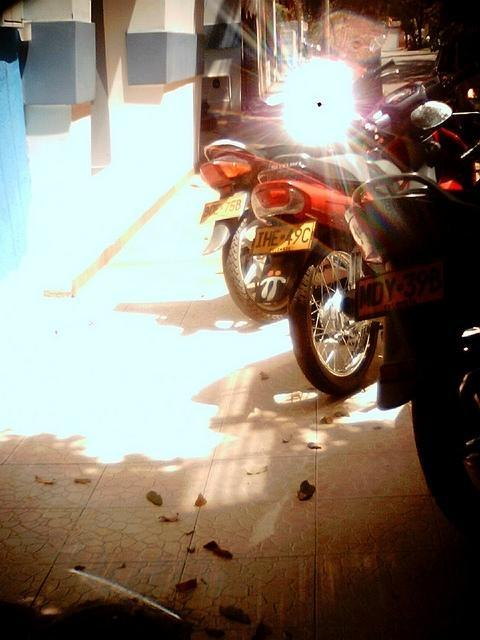motorcycle: (342, 88, 480, 528), (247, 141, 413, 393), (204, 142, 316, 320)
